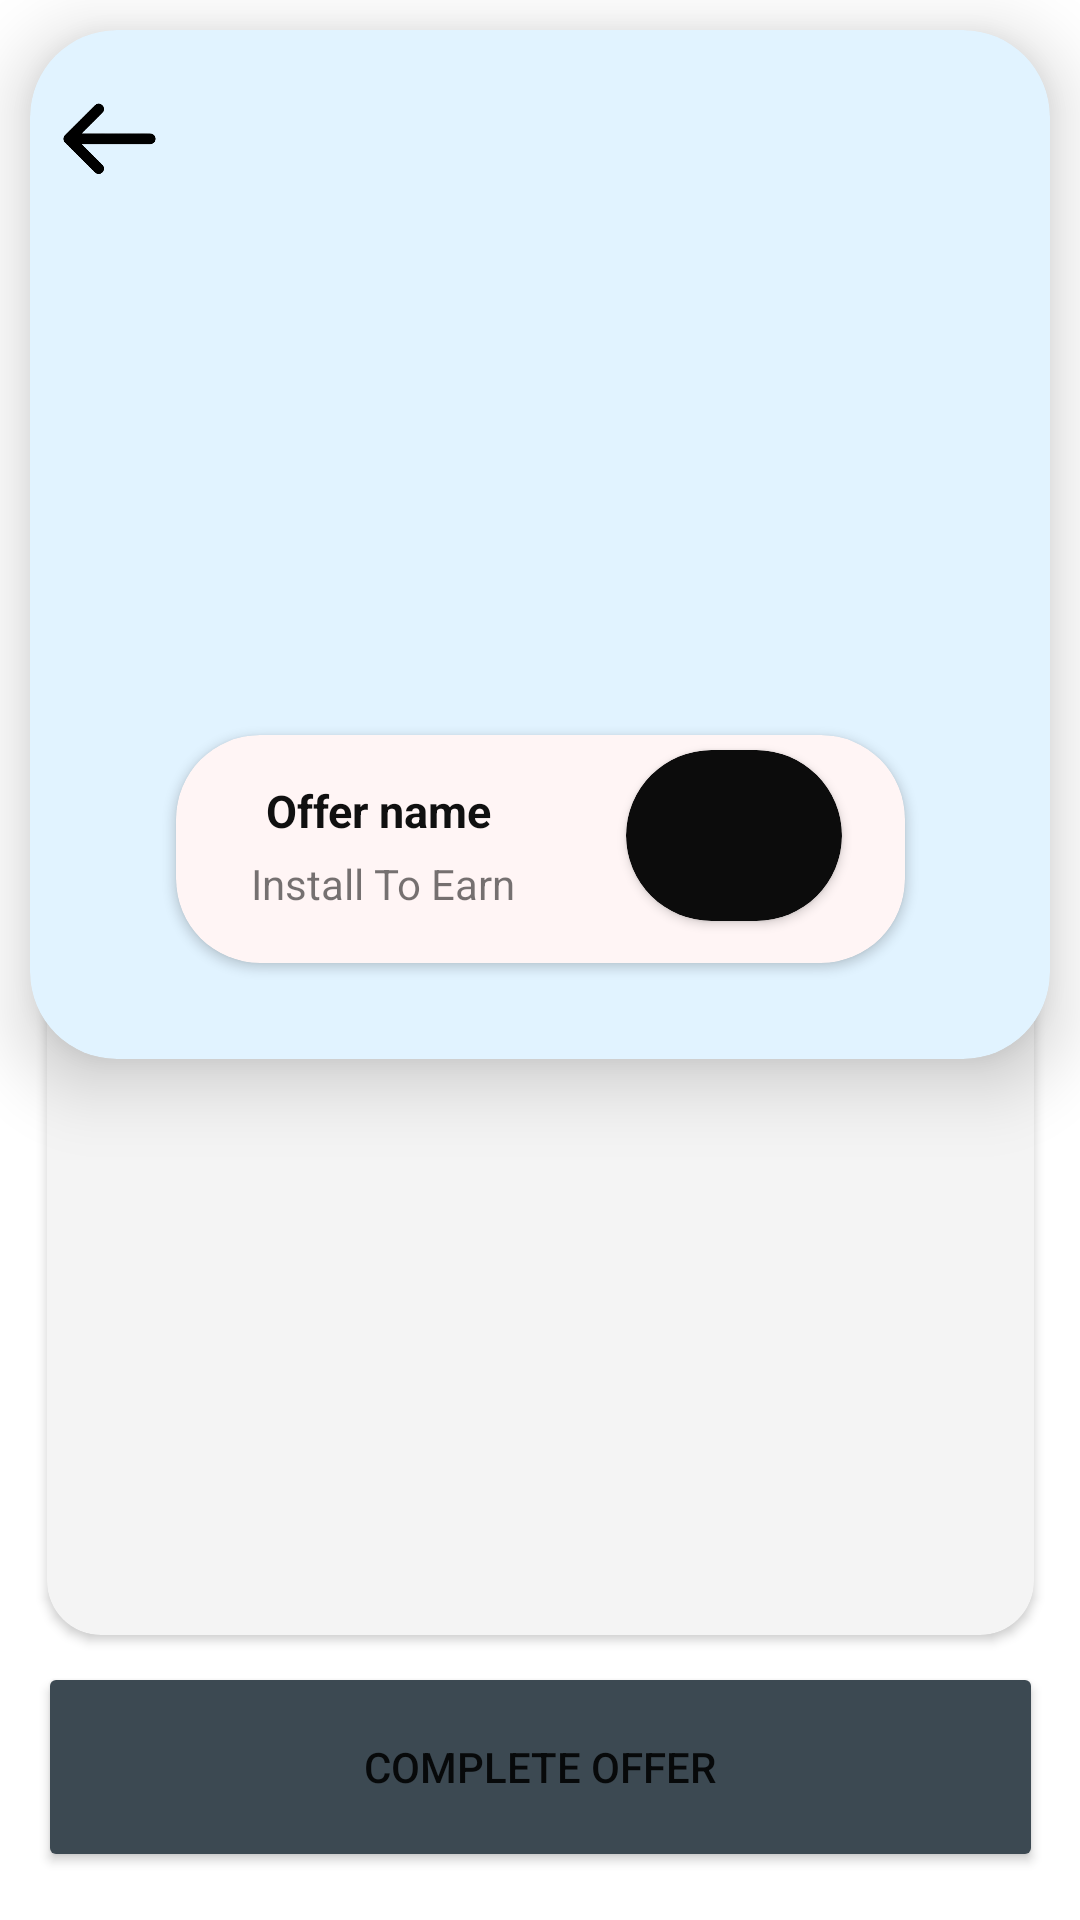

Named icons in this screenshot (1080x1920) and their bounding boxes, bbox(x1, y1, x2, y2):
backbut: bbox(63, 103, 156, 174)
